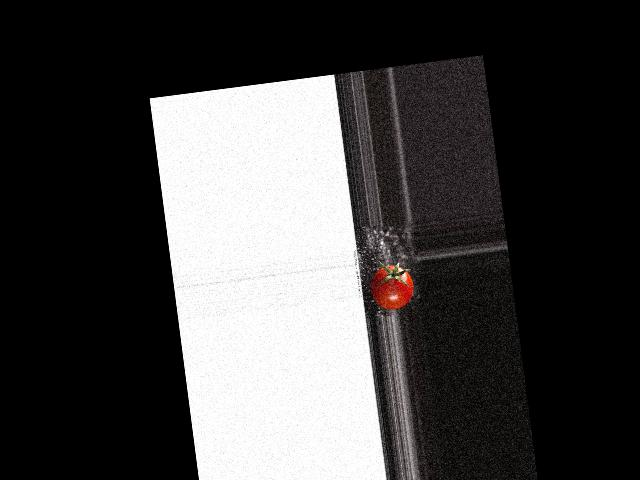tomato: (368, 263, 415, 311)
